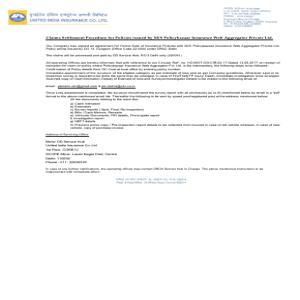text: (44, 33, 284, 132), (45, 134, 265, 173)
